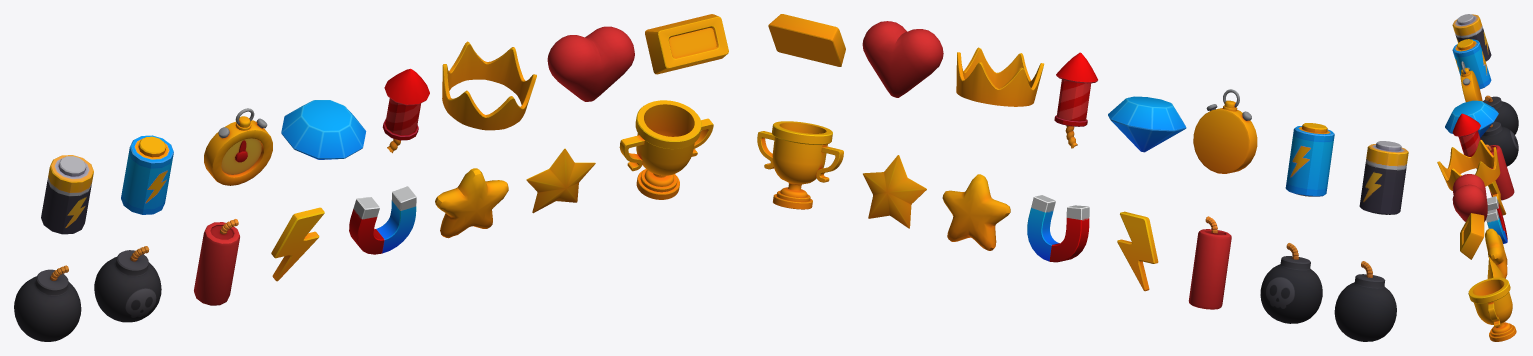
The model's file is hyper casual items pack .fbx.
The picture shows the model from 3 angles, left to right: view 1: azimuth 30°, elevation 25°; view 2: azimuth 150°, elevation 25°; view 3: azimuth 270°, elevation 25°; orthographic projection. The views are drawn at different scales.
Parts seen in each view (by area): view 1: Object_44, Object_32, Object_35, Object_23, Object_50, Object_11, Object_26, Object_41, Object_8, Object_47, Object_5, Object_17 (+4 smaller); view 2: Object_44, Object_35, Object_26, Object_32, Object_50, Object_11, Object_5, Object_47, Object_8, Object_23, Object_17, Object_20 (+4 smaller); view 3: Object_44, Object_32, Object_35, Object_47, Object_23, Object_50, Object_8, Object_41, Object_14, Object_11, Object_5, Object_20 (+4 smaller).
Part boxes in pixels (x1,y1,x2,y2): Object_44: [619, 100, 713, 199]; Object_32: [442, 41, 536, 130]; Object_35: [547, 26, 634, 101]; Object_23: [281, 100, 366, 159]; Object_50: [94, 246, 161, 322]; Object_11: [14, 265, 81, 341]; Object_26: [204, 108, 272, 185]; Object_41: [645, 14, 728, 74]; Object_8: [41, 155, 93, 234]; Object_47: [121, 135, 173, 214]; Object_5: [435, 168, 508, 238]; Object_17: [349, 186, 416, 254]; Object_44: [757, 121, 843, 209]; Object_35: [862, 21, 943, 97]; Object_26: [1193, 89, 1257, 173]; Object_32: [956, 47, 1044, 106]; Object_50: [1260, 243, 1322, 323]; Object_11: [1334, 261, 1396, 341]; Object_5: [942, 174, 1010, 250]; Object_47: [1285, 123, 1334, 196]; Object_8: [1359, 141, 1408, 214]; Object_23: [1108, 96, 1186, 152]; Object_17: [1027, 195, 1089, 262]; Object_20: [1188, 216, 1231, 309]; Object_44: [1468, 277, 1516, 341]; Object_32: [1437, 140, 1500, 190]; Object_35: [1452, 174, 1487, 221]; Object_47: [1452, 39, 1491, 89]; Object_23: [1445, 100, 1498, 137]; Object_50: [1480, 121, 1518, 166]; Object_8: [1452, 14, 1491, 61]; Object_41: [1460, 213, 1484, 259]; Object_14: [1452, 113, 1480, 169]; Object_11: [1483, 95, 1518, 134]; Object_5: [1485, 228, 1507, 278]; Object_20: [1485, 144, 1514, 200].
Bounding box in the file's own units: 745 × 222 × 119.
Materials: 16 (16 with a texture image).
